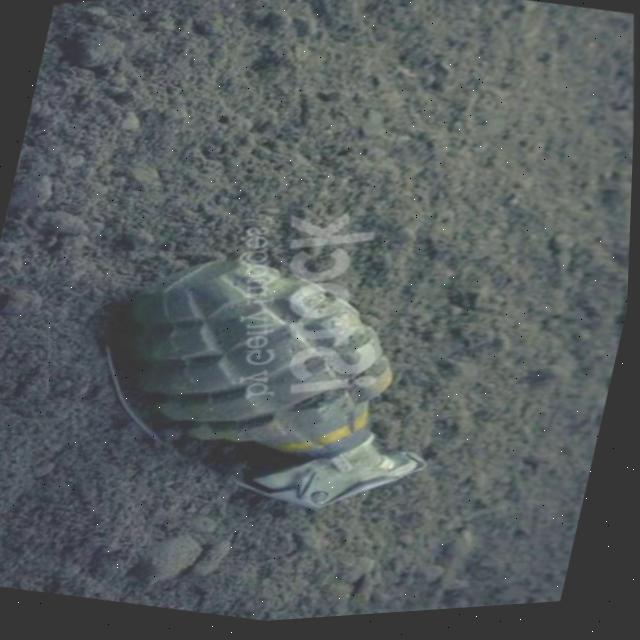grenade: (42, 176, 495, 597)
